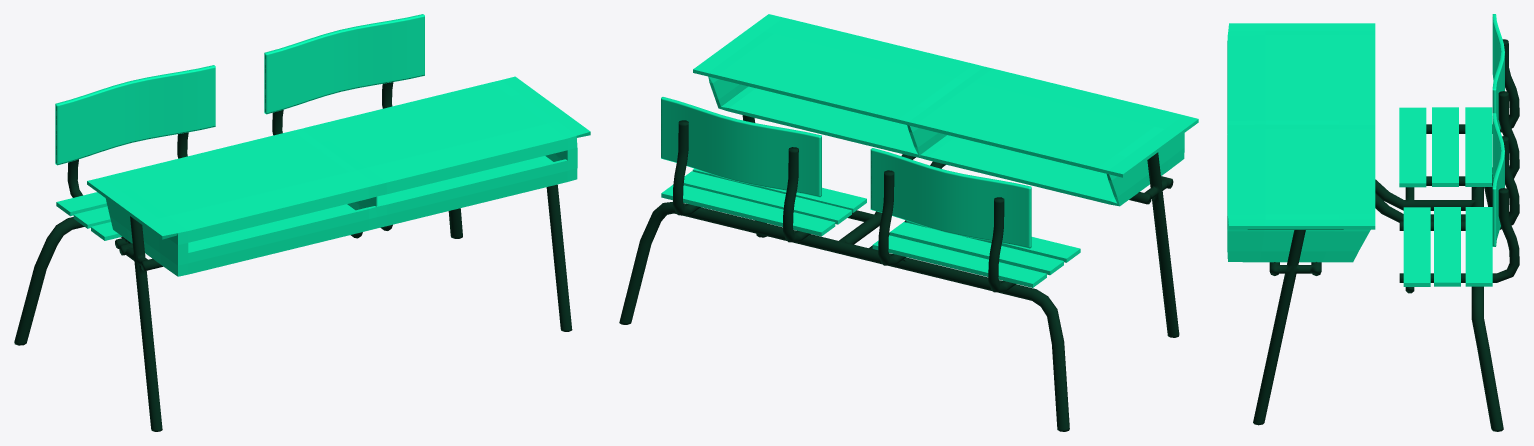
3 views of the same model, side by side, from view 1: azimuth 30°, elevation 25°; view 2: azimuth 150°, elevation 25°; view 3: azimuth 270°, elevation 25° (orthographic). The views are drawn at different scales.
Visible parts, largest first — view 1: Desk, Headrest, SteelFrame, Seat; view 2: Desk, Headrest, SteelFrame, Seat; view 3: Desk, Seat, SteelFrame, Headrest.
Boxes of the visible parts, bbox=[...] form: Desk: bbox=[87, 76, 590, 276]; Headrest: bbox=[55, 14, 424, 165]; SteelFrame: bbox=[14, 82, 572, 431]; Seat: bbox=[56, 192, 121, 240]; Desk: bbox=[693, 14, 1198, 206]; Headrest: bbox=[661, 97, 1031, 248]; SteelFrame: bbox=[619, 115, 1179, 431]; Seat: bbox=[661, 168, 1080, 287]; Desk: bbox=[1227, 23, 1375, 262]; Seat: bbox=[1399, 107, 1492, 286]; SteelFrame: bbox=[1248, 39, 1519, 431]; Headrest: bbox=[1492, 14, 1504, 246].
Size of the model in its own units: 2 by 0.9906 by 1.17.
